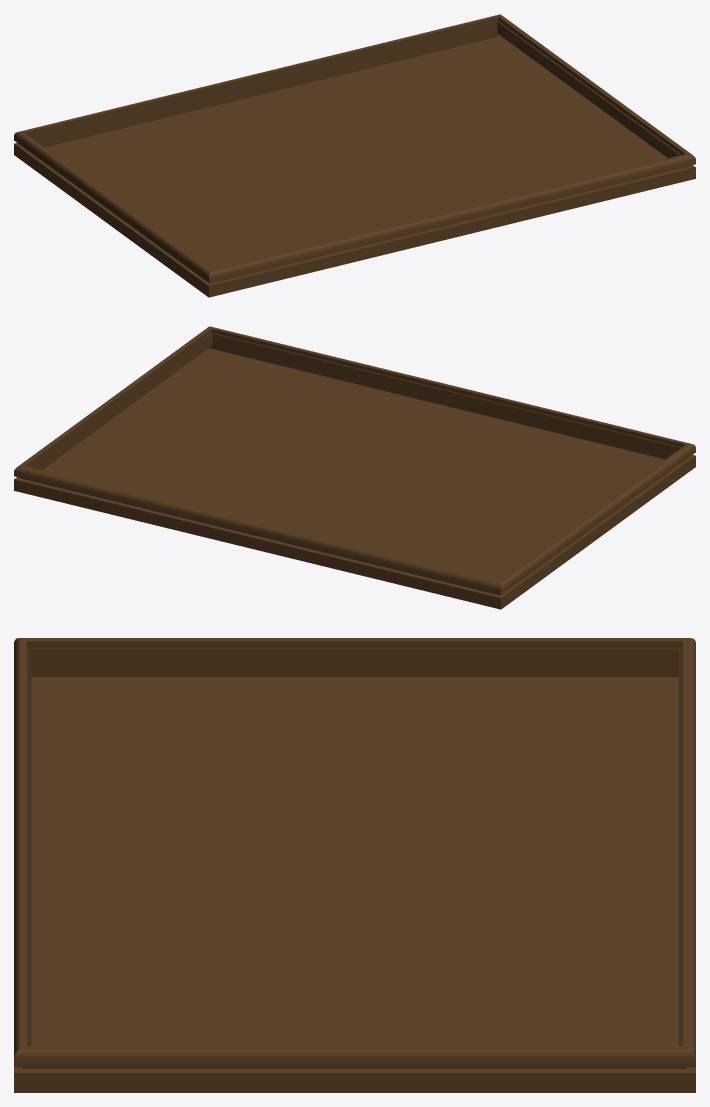
File: Board.DAE
3 views of the same model, one above another, from view 1: azimuth 30°, elevation 25°; view 2: azimuth 150°, elevation 25°; view 3: azimuth 270°, elevation 25° (orthographic). The views are drawn at different scales.
Visible parts, largest first — view 1: Board; view 2: Board; view 3: Board.
Boxes of the visible parts, x1,y1,x2,y2 form: Board: [14, 14, 695, 297]; Board: [14, 326, 695, 609]; Board: [14, 638, 695, 1092].
Size of the model in its own units: 45.6 by 2.1 by 31.6.
